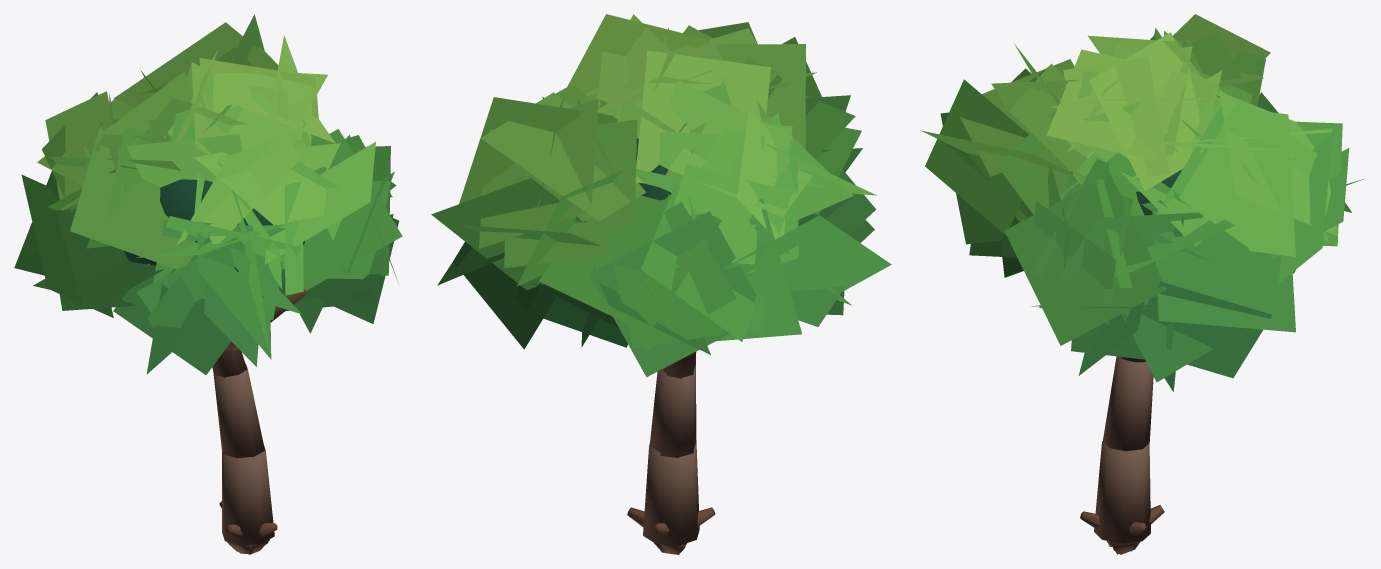
File: tree_round_a.glb
3 views of the same model, side by side, from view 1: azimuth 30°, elevation 25°; view 2: azimuth 150°, elevation 25°; view 3: azimuth 270°, elevation 25° (orthographic). The views are drawn at different scales.
Visible parts, largest first — view 1: Leaves, Tree; view 2: Leaves, Tree; view 3: Leaves, Tree.
Part boxes in pixels (x1,y1,x2,y2): Leaves: (14,14,402,374); Tree: (124,179,306,554); Leaves: (431,14,891,377); Tree: (627,138,715,554); Leaves: (921,14,1363,391); Tree: (1071,169,1182,554).
Bounding box in the file's own units: 2.99 × 3.93 × 3.07.
